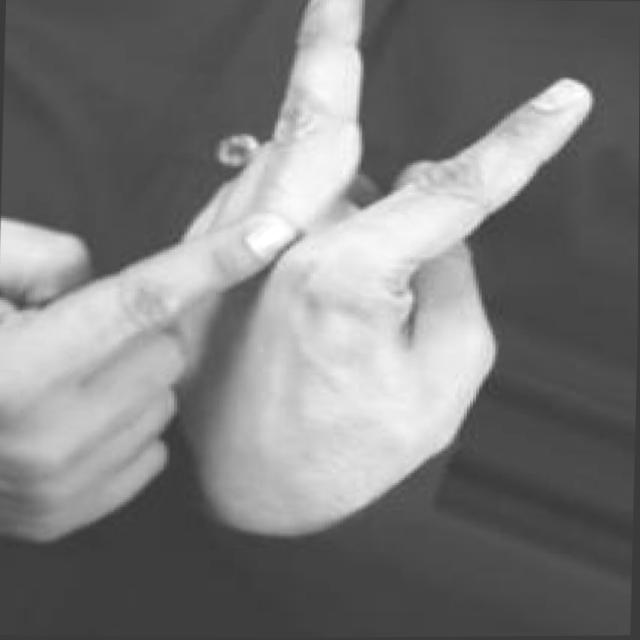Y: (0, 0, 597, 550)
